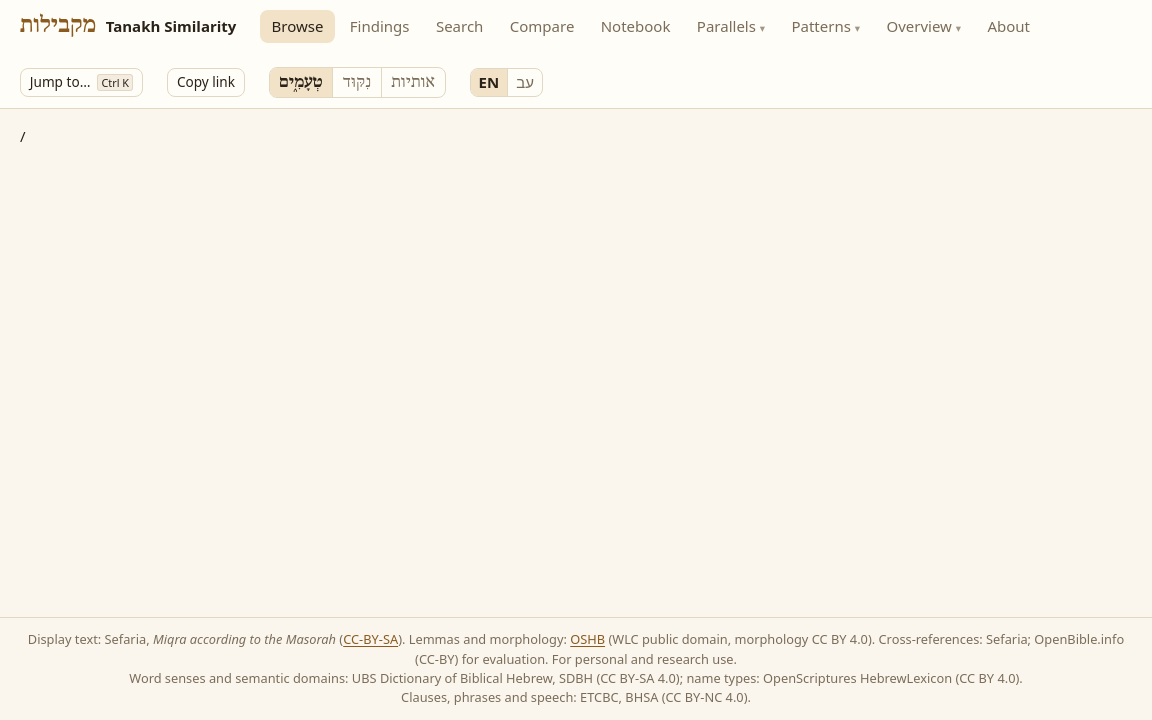
it: JumpBox › opens the map at a place its name names, before the words
Step 1. Press k
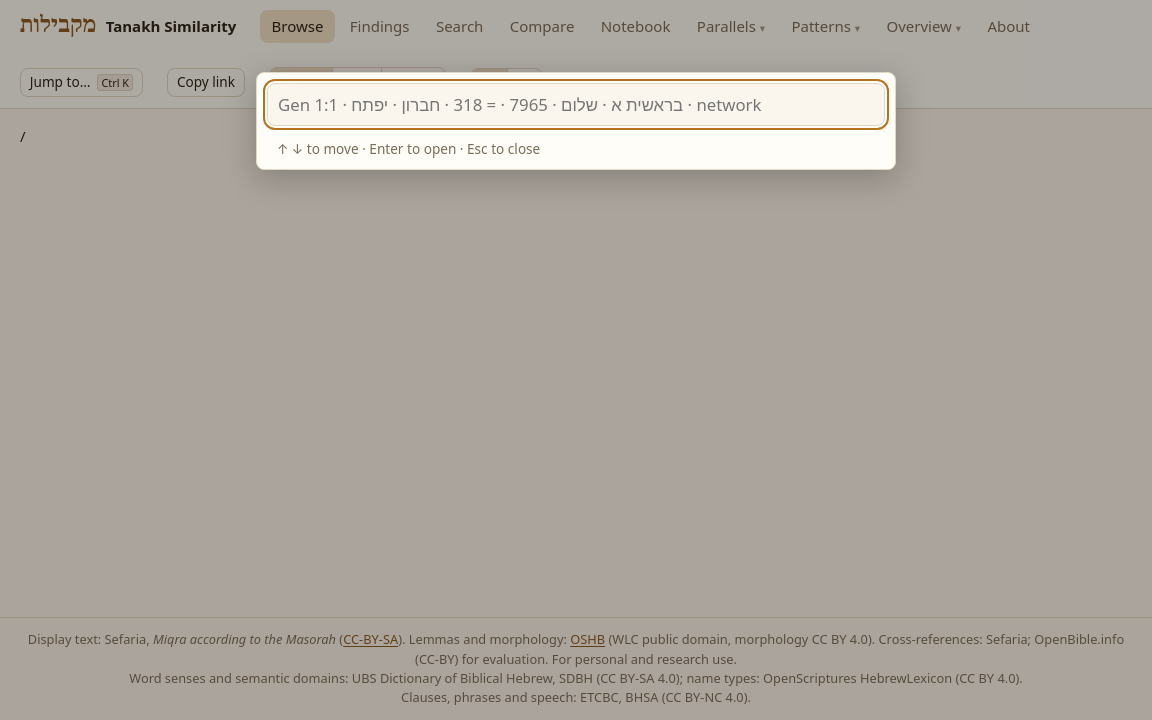
Step 2. Replace the text in the dropdown named "Jump to a passage, a word, a place, a person or a page" with "חברון" → (576,104), box x1=267 y1=83 x2=885 y2=126
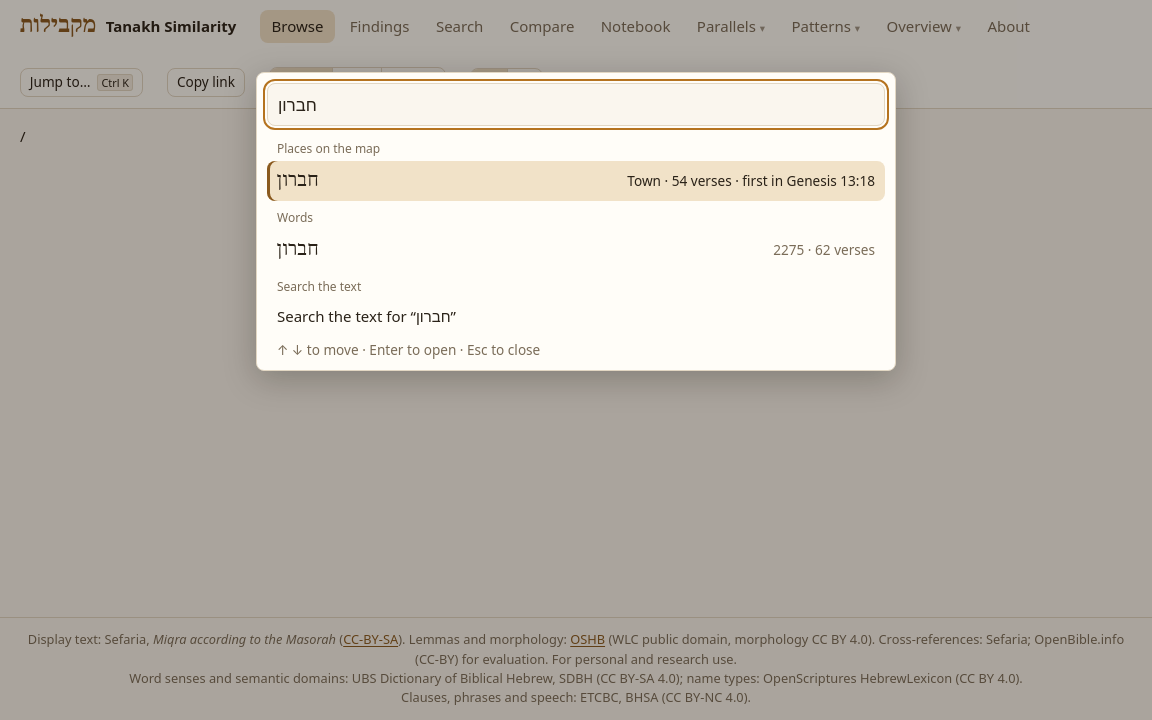
Step 3. Press Enter in the dropdown named "Jump to a passage, a word, a place, a person or a page", box x1=267 y1=83 x2=885 y2=126
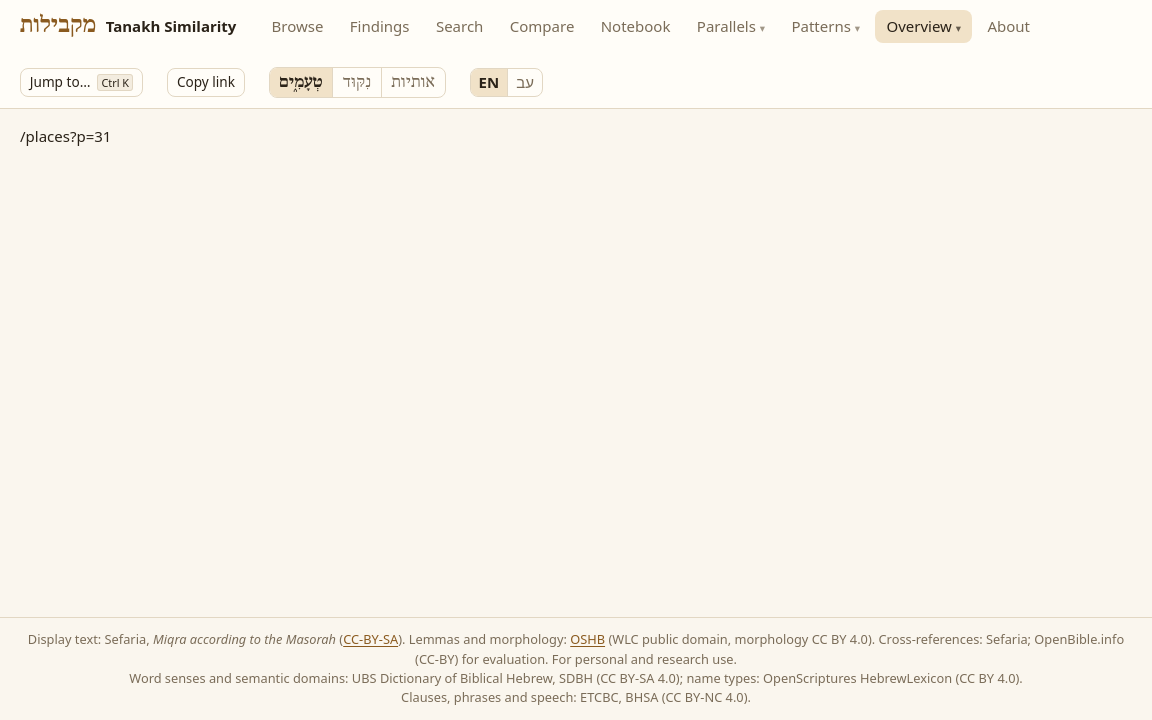
expect the text with test id "loc" reads "/places?p=31": met, box x1=20 y1=126 x2=111 y2=146
